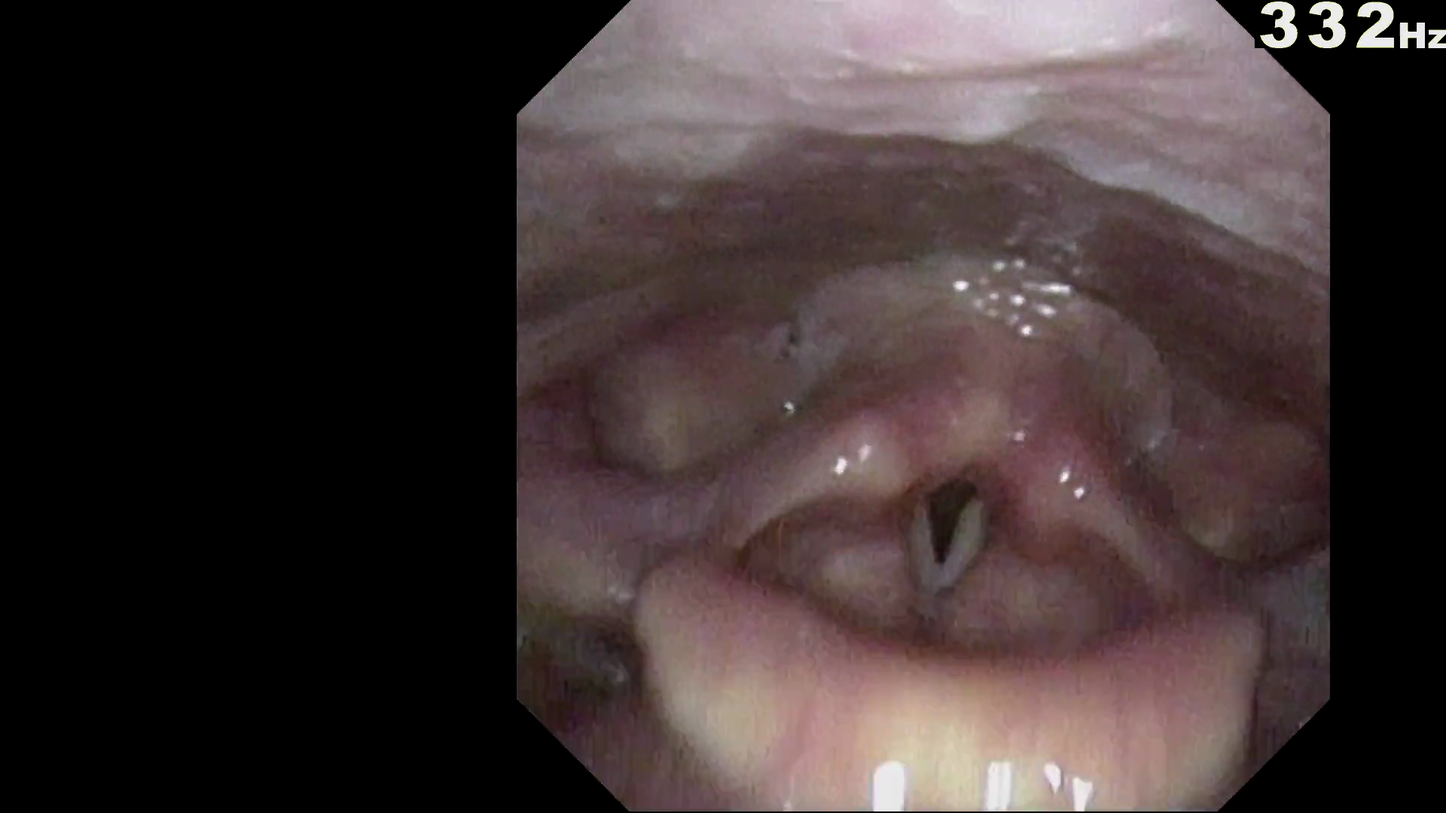epiglottis: (658, 511, 1226, 791)
trachea: (859, 419, 1040, 632)
